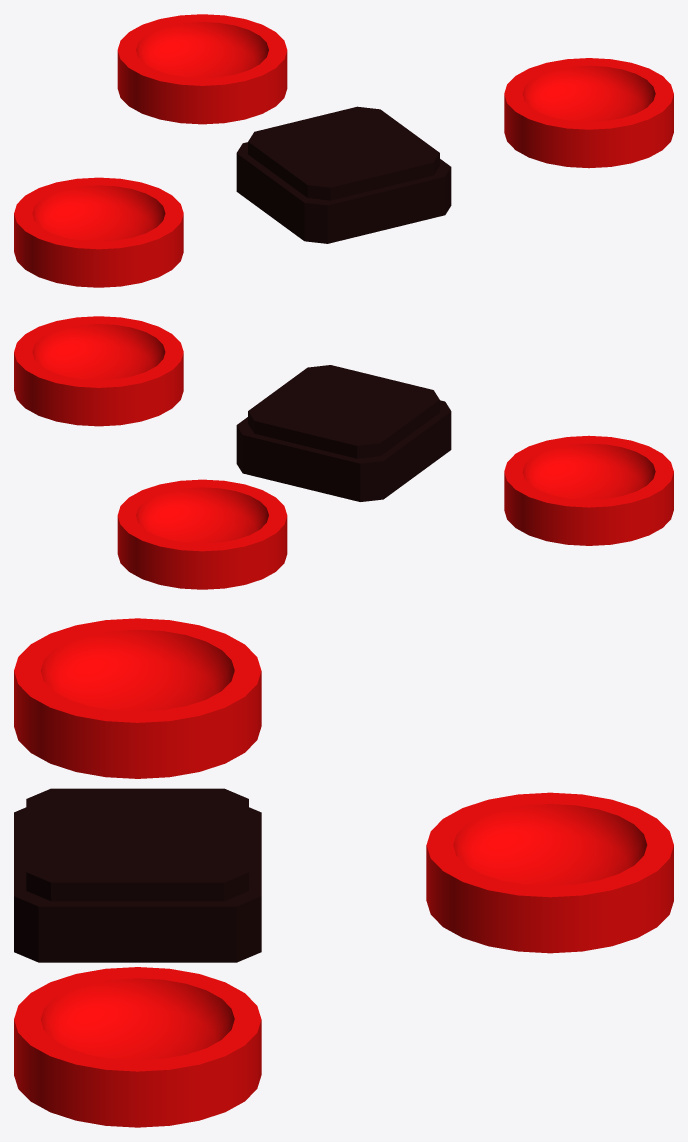
Rendered from Splitter_3.obj.
The picture shows the model from 3 angles, top to bottom: view 1: azimuth 30°, elevation 25°; view 2: azimuth 150°, elevation 25°; view 3: azimuth 270°, elevation 25°; orthographic projection. The views are drawn at different scales.
Parts seen in each view (by area): view 1: Handle1, Output11, Output21, Output31; view 2: Handle1, Output11, Output31, Output21; view 3: Handle1, Output21, Output31, Output11.
Part boxes in pixels (bbox=[...]): Handle1: bbox=[236, 106, 451, 243]; Output11: bbox=[117, 14, 287, 124]; Output21: bbox=[14, 177, 183, 287]; Output31: bbox=[504, 58, 673, 168]; Handle1: bbox=[236, 365, 451, 501]; Output11: bbox=[117, 479, 287, 589]; Output31: bbox=[14, 316, 183, 426]; Output21: bbox=[504, 435, 673, 545]; Handle1: bbox=[14, 788, 261, 962]; Output21: bbox=[14, 618, 261, 778]; Output31: bbox=[14, 967, 261, 1127]; Output11: bbox=[426, 792, 673, 953].
Bounding box in the file's own units: 2.6 × 0.2 × 1.6.
